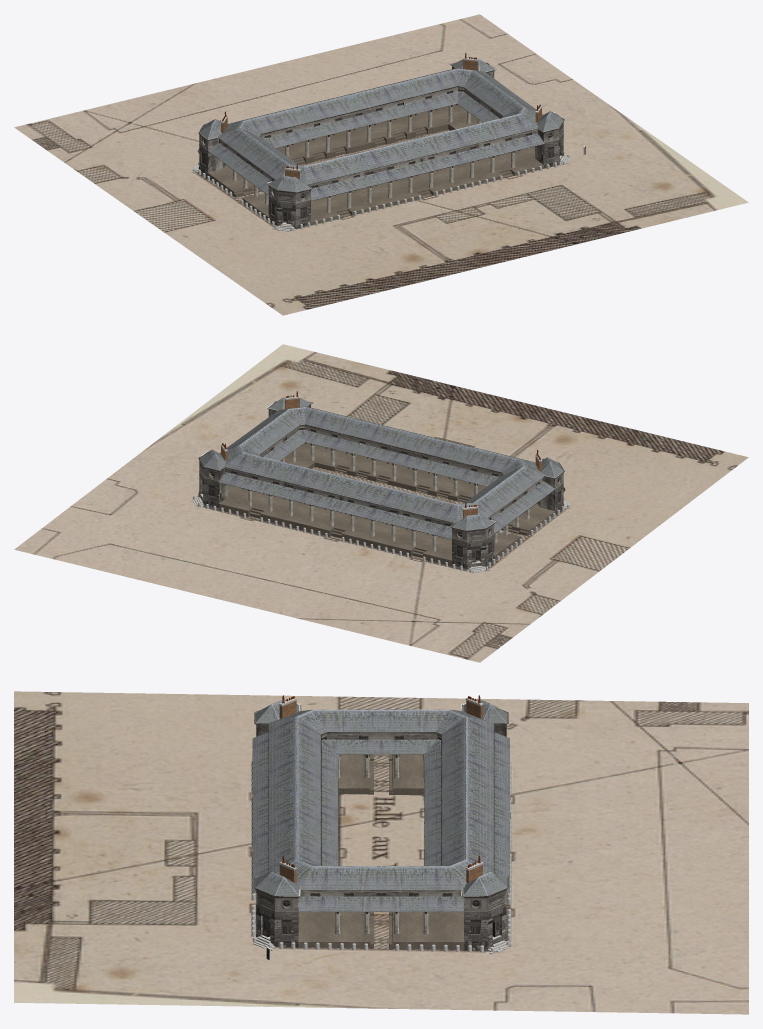
File: fr_856b6dcd.glb
3 views of the same model, one above another, from view 1: azimuth 30°, elevation 25°; view 2: azimuth 150°, elevation 25°; view 3: azimuth 270°, elevation 25° (orthographic). The views are drawn at different scales.
Parts seen in each view (by area): view 1: ground 2 plane_23, Plane.002_378, Cube.020_387, Cube.017_384, unit_389, Cube.016_388, Cube.014_382, unit roof_390, Cube.019_386, Cube.018_385, Cube.002_379, Cube.024_7; view 2: ground 2 plane_23, Plane.002_378, Cube.020_387, Cube.017_384, unit_389, Cube.016_388, Cube.014_382, unit roof_390, Cube.019_386, Cube.018_385, Cube.002_379; view 3: ground 2 plane_23, Cube.020_387, Cube.017_384, Plane.002_378, Cube.014_382, unit_389, Cube.016_388, Cube.002_379, unit roof_390, Cube.001_380, Cube.024_7, Cube.015_383.
Part boxes in pixels (box(x1,y1,x2,y2)): ground 2 plane_23: box(14, 14, 748, 315); Plane.002_378: box(208, 104, 543, 225); Cube.020_387: box(218, 68, 543, 184); Cube.017_384: box(239, 68, 523, 165); unit_389: box(198, 62, 564, 228); Cube.016_388: box(311, 133, 544, 200); Cube.014_382: box(263, 91, 499, 148); unit roof_390: box(199, 57, 563, 192); Cube.019_386: box(309, 129, 537, 188); Cube.018_385: box(260, 86, 464, 138); Cube.002_379: box(207, 143, 271, 194); Cube.024_7: box(221, 57, 542, 179); ground 2 plane_23: box(14, 344, 748, 662); Plane.002_378: box(205, 443, 555, 566); Cube.020_387: box(219, 406, 544, 523); Cube.017_384: box(239, 407, 523, 503); unit_389: box(198, 400, 564, 570); Cube.016_388: box(218, 472, 451, 539); Cube.014_382: box(263, 430, 499, 486); unit roof_390: box(199, 395, 563, 530); Cube.019_386: box(225, 467, 453, 526); Cube.018_385: box(298, 425, 502, 477); Cube.002_379: box(491, 481, 555, 533); ground 2 plane_23: box(14, 691, 748, 1014); Cube.020_387: box(268, 709, 494, 889); Cube.017_384: box(296, 709, 465, 865); Plane.002_378: box(256, 754, 464, 949); Cube.014_382: box(321, 740, 440, 865); unit_389: box(254, 703, 508, 950); Cube.016_388: box(252, 732, 510, 893); Cube.002_379: box(299, 896, 463, 911); unit roof_390: box(255, 699, 506, 895); Cube.001_380: box(301, 890, 461, 896); Cube.024_7: box(279, 698, 483, 883); Cube.015_383: box(326, 732, 436, 739).
Bounding box in the file's own units: 104 × 13.01 × 104.
Materials: 11 (10 with a texture image).
